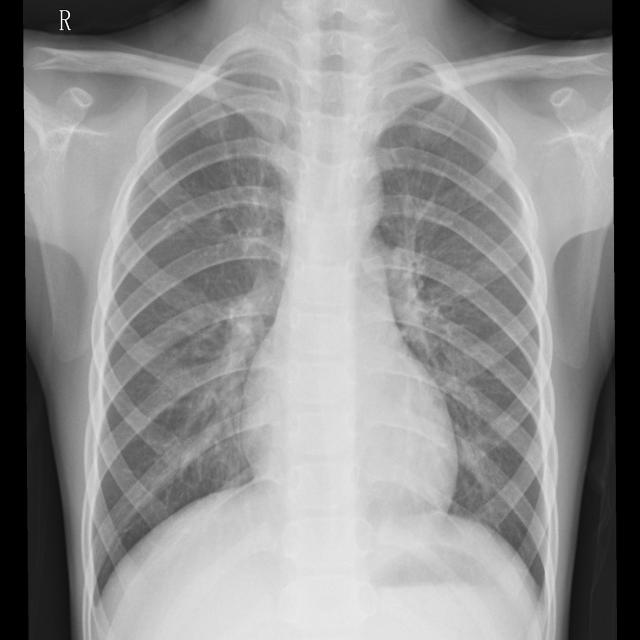no-pneumonia: (89, 61, 288, 608), (377, 94, 556, 589)
